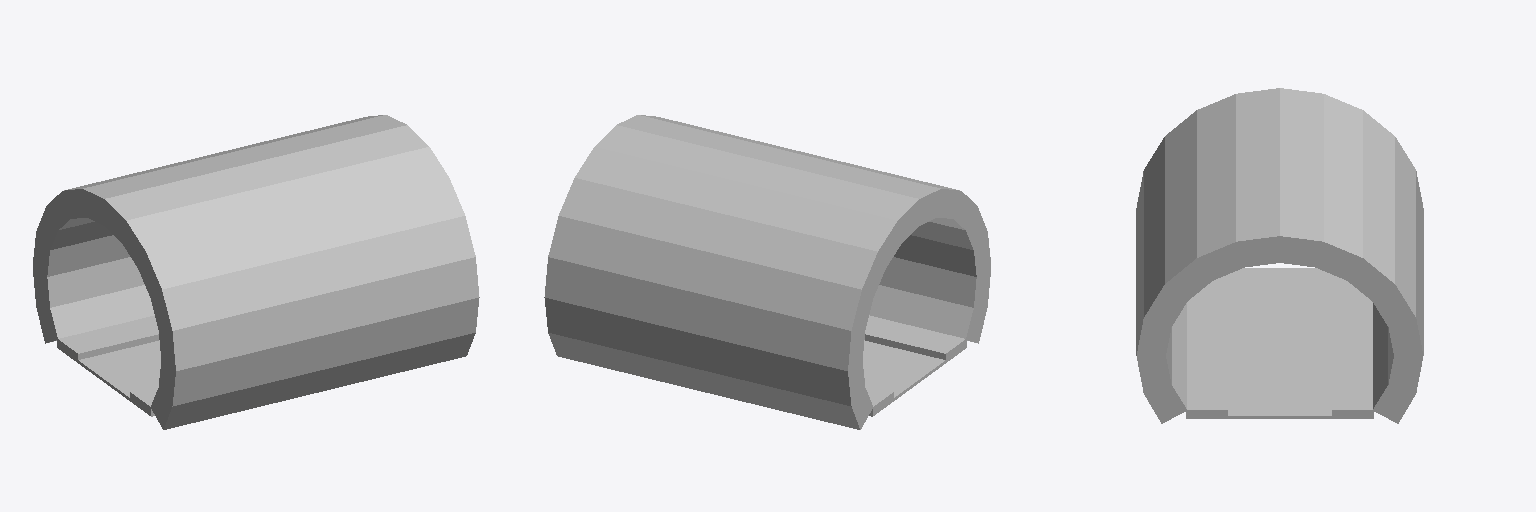
Rendered from sewer_short.obj.
3 views of the same model, side by side, from view 1: azimuth 30°, elevation 25°; view 2: azimuth 150°, elevation 25°; view 3: azimuth 270°, elevation 25° (orthographic).
Visible parts, largest first — view 1: walls, floor, walkway2; view 2: walls, floor, walkway1; view 3: walls, floor, walkway2, walkway1.
Boxes of the visible parts, x1,y1,x2,y2 form: walls: [33, 115, 479, 429]; floor: [78, 340, 160, 401]; walkway2: [57, 315, 158, 362]; walls: [544, 115, 990, 429]; floor: [863, 340, 945, 401]; walkway1: [865, 315, 966, 362]; walls: [1136, 88, 1423, 423]; floor: [1227, 268, 1332, 418]; walkway2: [1332, 275, 1373, 418]; walkway1: [1186, 275, 1227, 418].
Size of the model in its own units: 50.03 by 29.61 by 40.99.